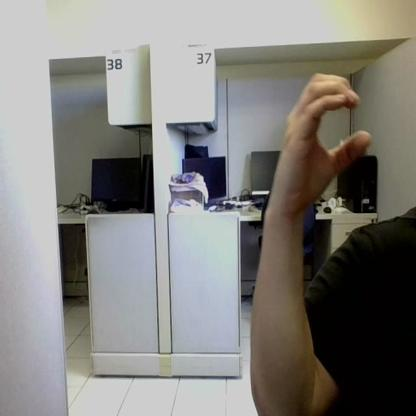C: (275, 73, 370, 210)
